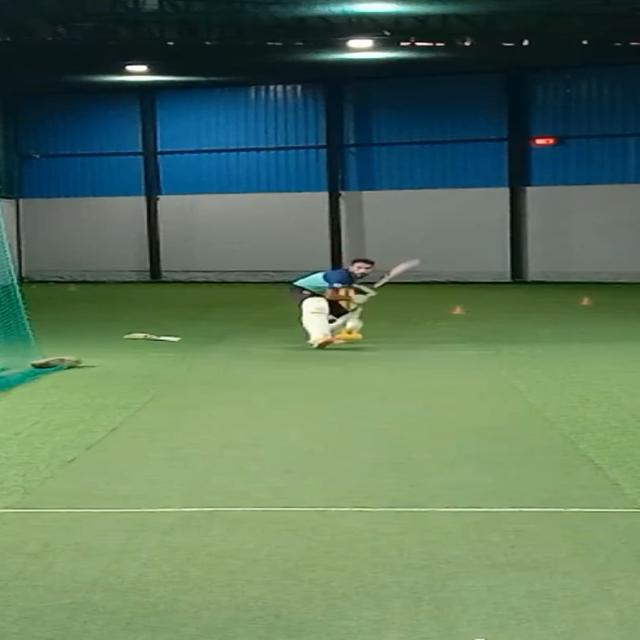ball: (343, 318, 363, 334)
